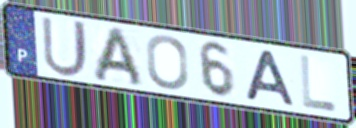6: (197, 40, 238, 100)
A: (90, 24, 146, 89), (243, 48, 298, 108)
L: (298, 52, 339, 114)
O: (144, 33, 191, 91)
U: (39, 14, 90, 80)
